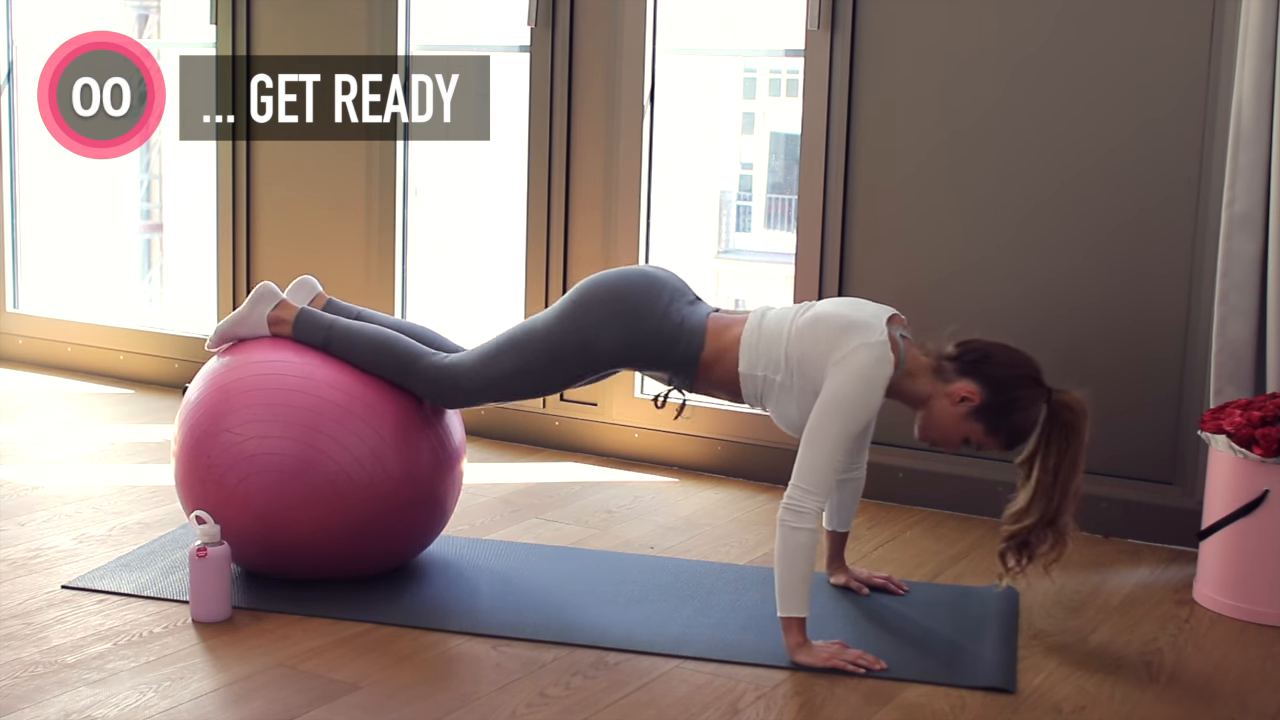yogaball: (164, 335, 481, 599)
